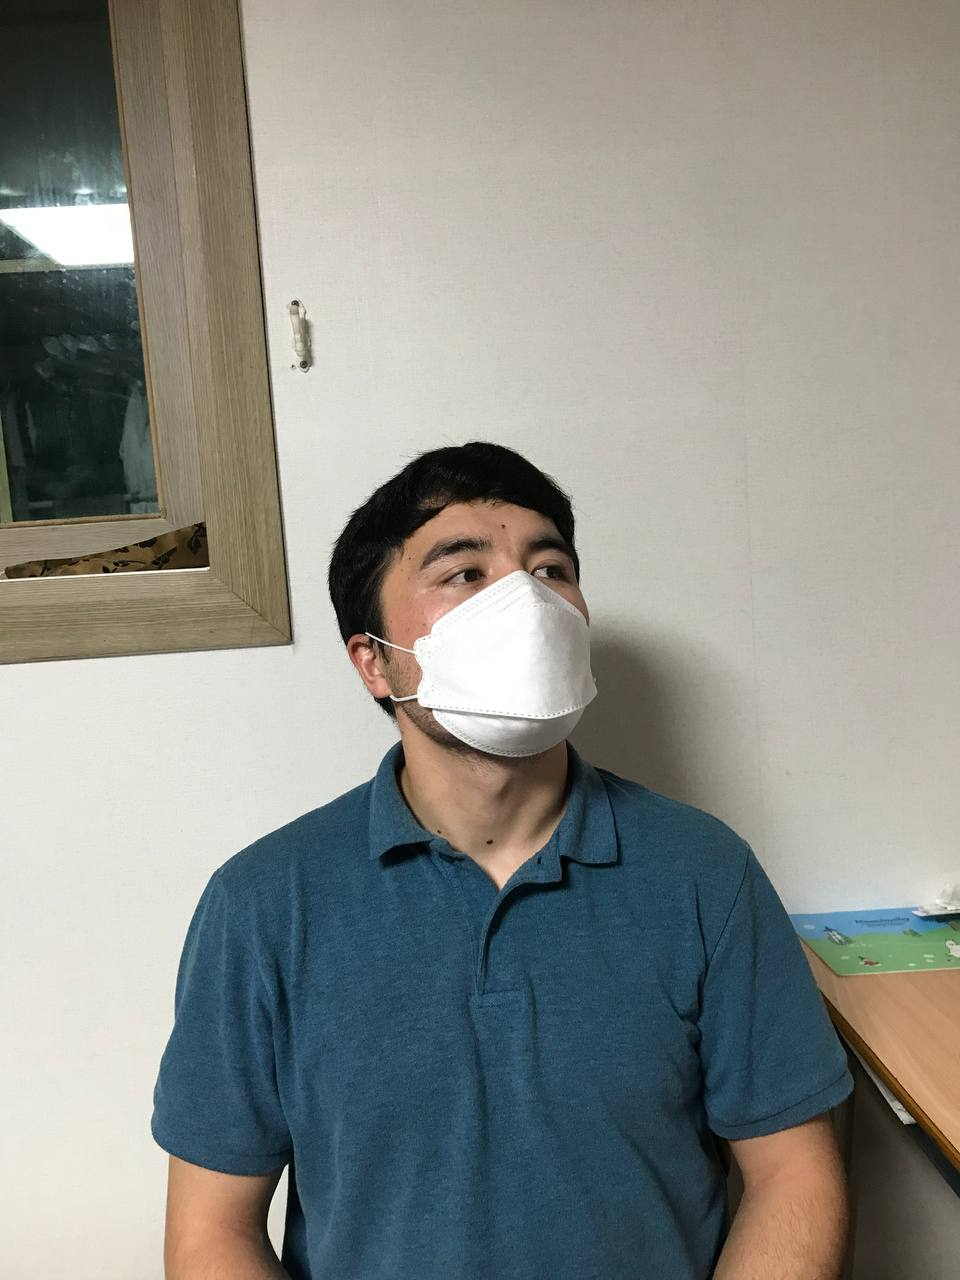Mask: (325, 577, 603, 762)
